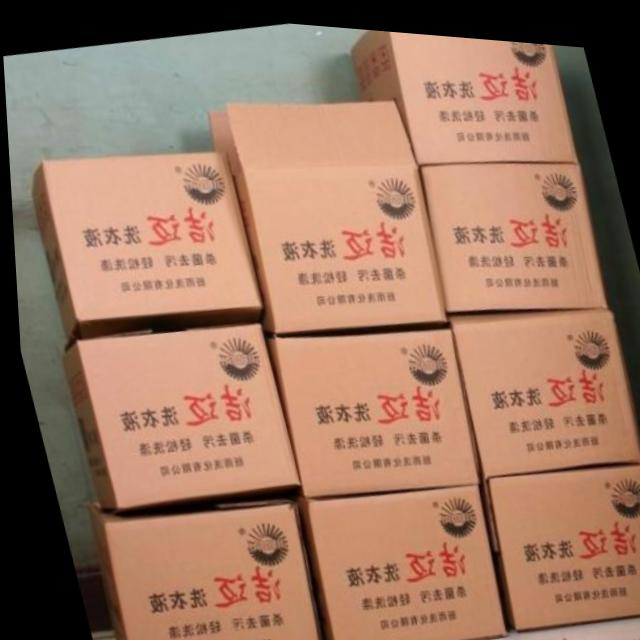box: (207, 93, 444, 332), (27, 146, 262, 340), (56, 319, 295, 509), (262, 321, 476, 494), (81, 495, 316, 640), (292, 480, 500, 640), (447, 299, 638, 471), (349, 24, 576, 157), (417, 154, 603, 305), (477, 457, 640, 622)
